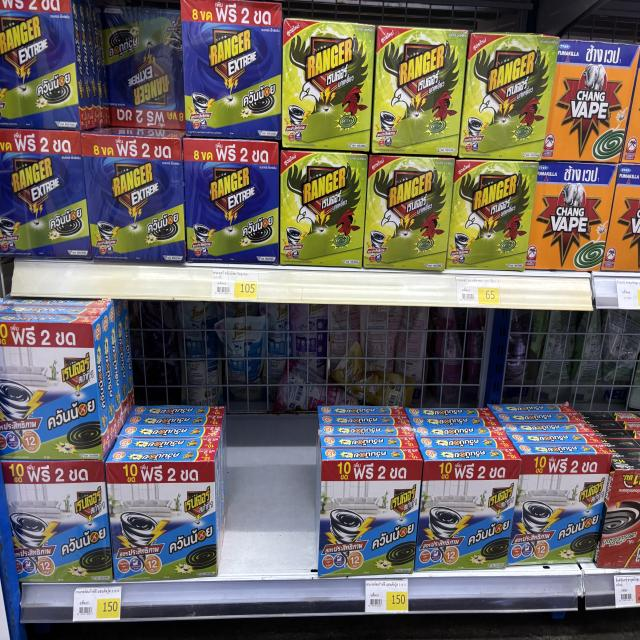empty_shelf: (320, 305, 607, 457), (221, 305, 321, 577), (112, 296, 227, 458), (81, 2, 184, 135)
